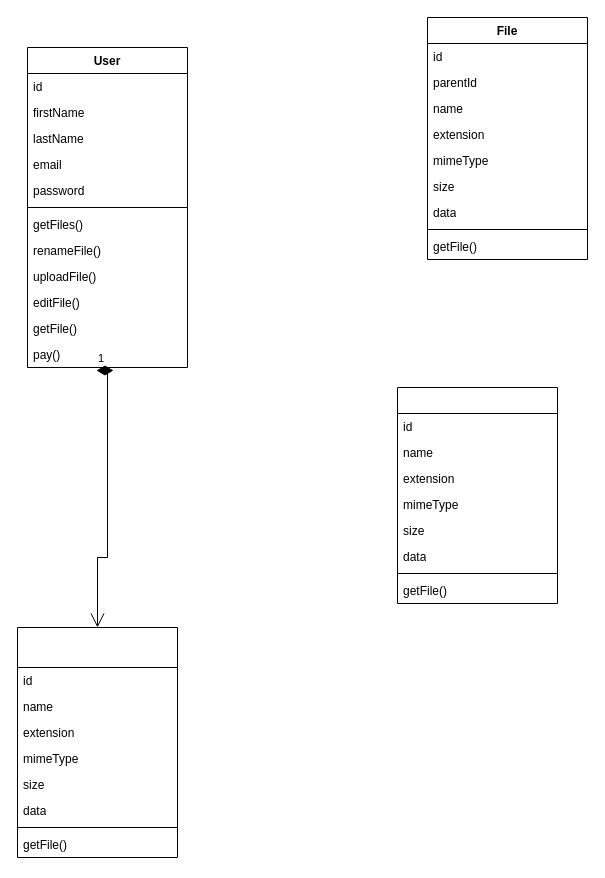
Image size: 605x878. Some labels were removed from this diagram. Here are the shapes that lost their labels. From the top down, the box of each, then its label:
(396, 386, 558, 604): DatabaseDriver
(16, 626, 178, 858): PaymentService (singleton)
